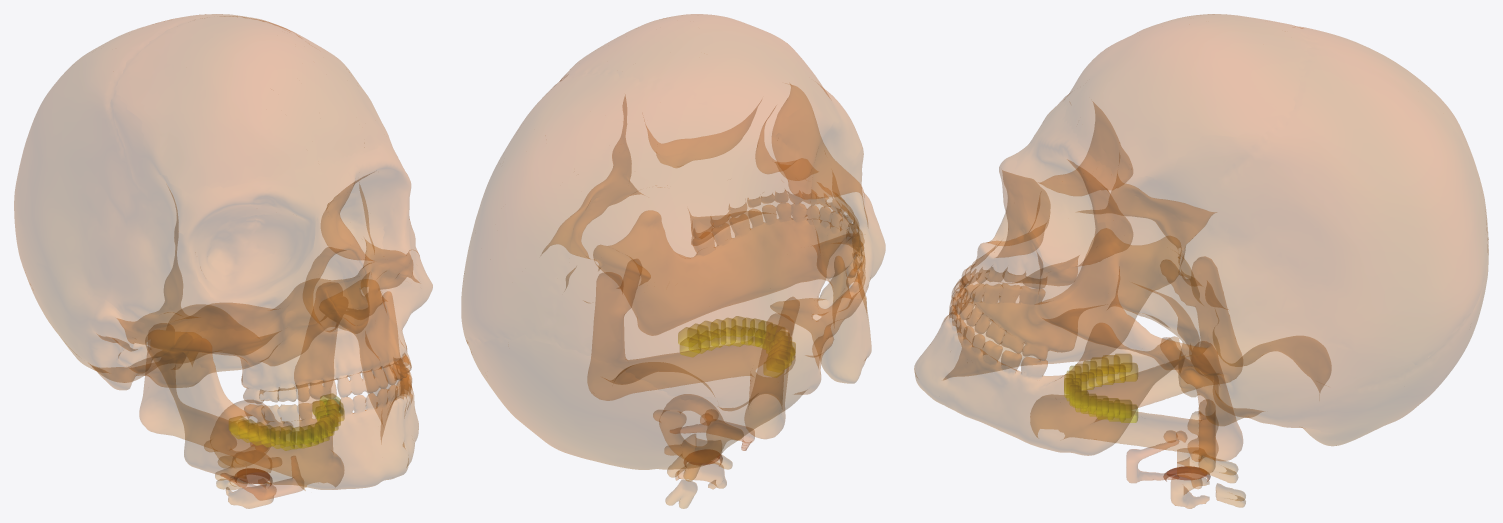
File: skull-hero-lite.glb
3 views of the same model, side by side, from view 1: azimuth 30°, elevation 25°; view 2: azimuth 150°, elevation 25°; view 3: azimuth 270°, elevation 25° (orthographic). The views are drawn at different scales.
Parts seen in each view (by area): view 1: skull_cranium, mandible, C1_atlas, C3, hyoid, C2_axis; view 2: skull_cranium, mandible, C1_atlas, C3, C2_axis, hyoid; view 3: skull_cranium, mandible, C1_atlas, C2_axis, C3, hyoid.
Boxes of the visible parts, <box> form: skull_cranium: <box>14,14,432,489</box>; mandible: <box>139,286,346,490</box>; C1_atlas: <box>204,400,292,466</box>; C3: <box>216,477,276,508</box>; hyoid: <box>221,456,303,500</box>; C2_axis: <box>215,445,281,480</box>; skull_cranium: <box>461,14,885,469</box>; mandible: <box>588,259,796,438</box>; C1_atlas: <box>653,394,743,462</box>; C3: <box>665,462,726,508</box>; C2_axis: <box>665,416,732,481</box>; hyoid: <box>675,422,754,450</box>; skull_cranium: <box>914,14,1488,455</box>; mandible: <box>1030,257,1242,460</box>; C1_atlas: <box>1164,400,1218,473</box>; C2_axis: <box>1176,431,1238,488</box>; C3: <box>1171,477,1245,508</box>; hyoid: <box>1126,440,1179,482</box>.
Size of the model in its own units: 0.1797 by 0.2736 by 0.2987.
